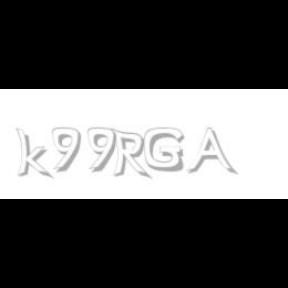9: (51, 128, 80, 172), (88, 128, 116, 172)
A: (186, 128, 234, 176)
G: (144, 128, 184, 172)
R: (111, 128, 149, 180)
k: (15, 128, 53, 180)
